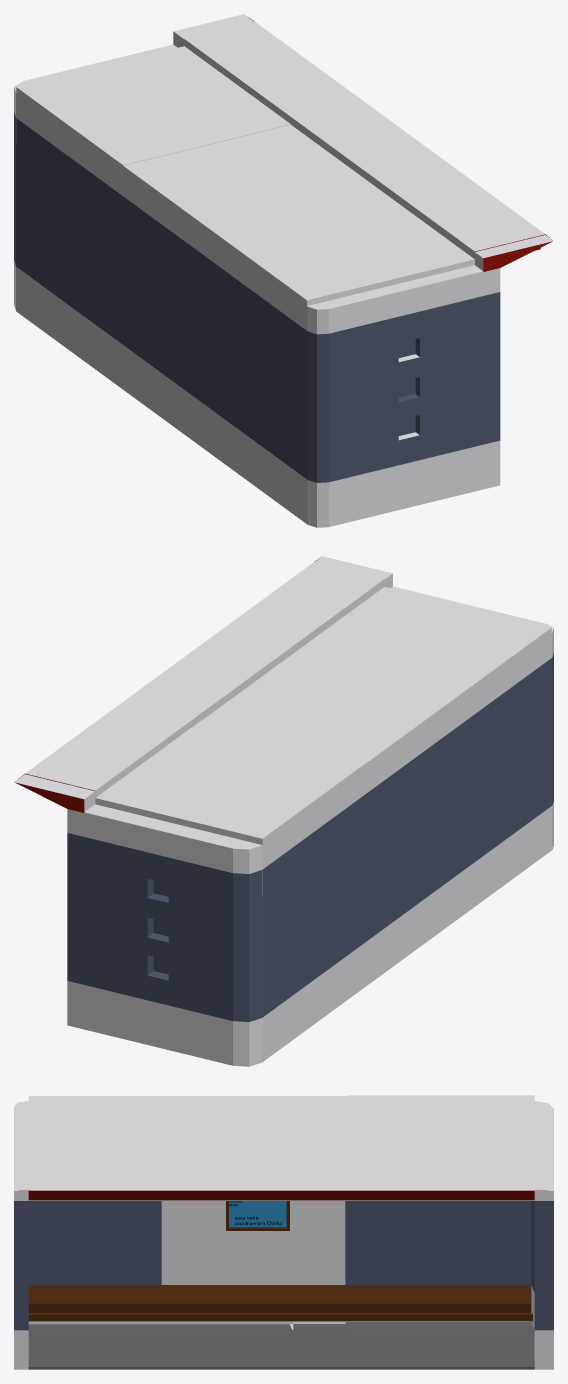
File: PrzystanekV2.fbx
The picture shows the model from 3 angles, top to bottom: view 1: azimuth 30°, elevation 25°; view 2: azimuth 150°, elevation 25°; view 3: azimuth 270°, elevation 25°; orthographic projection. The views are drawn at different scales.
Parts seen in each view (by area): view 1: Cube; view 2: Cube; view 3: Cube.
Part boxes in pixels (x1,y1,x2,y2): Cube: (14, 14, 553, 527); Cube: (14, 556, 553, 1066); Cube: (14, 1095, 553, 1369).
Size of the model in its own units: 426 by 396 by 959.
